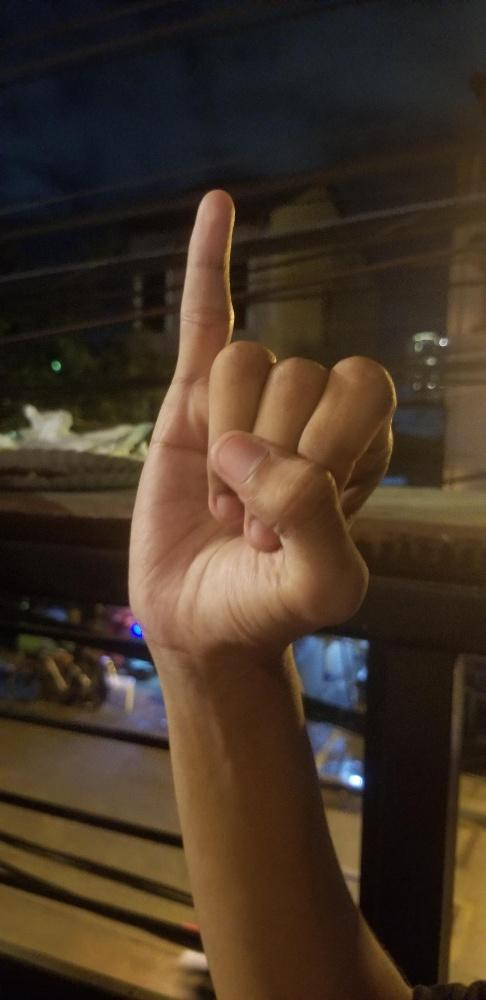i: (128, 188, 397, 635)
